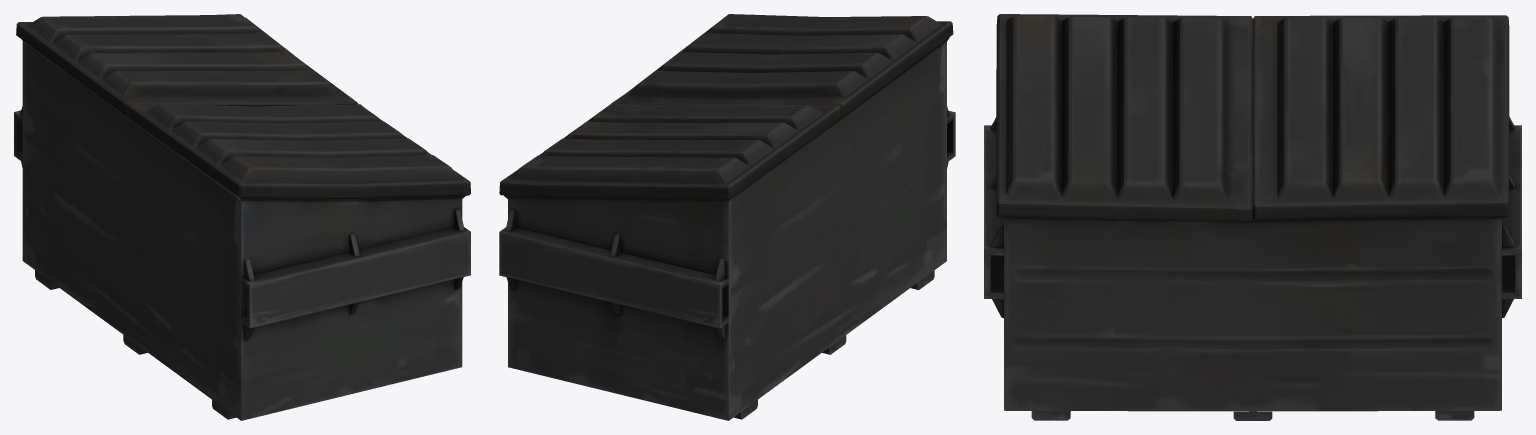
3 views of the same model, side by side, from view 1: azimuth 30°, elevation 25°; view 2: azimuth 150°, elevation 25°; view 3: azimuth 270°, elevation 25° (orthographic). The views are drawn at different scales.
Visible parts, largest first — view 1: body0_model0_lod0_mesh0; view 2: body0_model0_lod0_mesh0; view 3: body0_model0_lod0_mesh0.
Part boxes in pixels (x1=…): body0_model0_lod0_mesh0: x1=14, y1=14, x2=470, y2=420; body0_model0_lod0_mesh0: x1=499, y1=14, x2=955, y2=420; body0_model0_lod0_mesh0: x1=984, y1=14, x2=1521, y2=420.
Size of the model in its own units: 57.27 by 59.73 by 100.
Materials: 1 (1 with a texture image).
